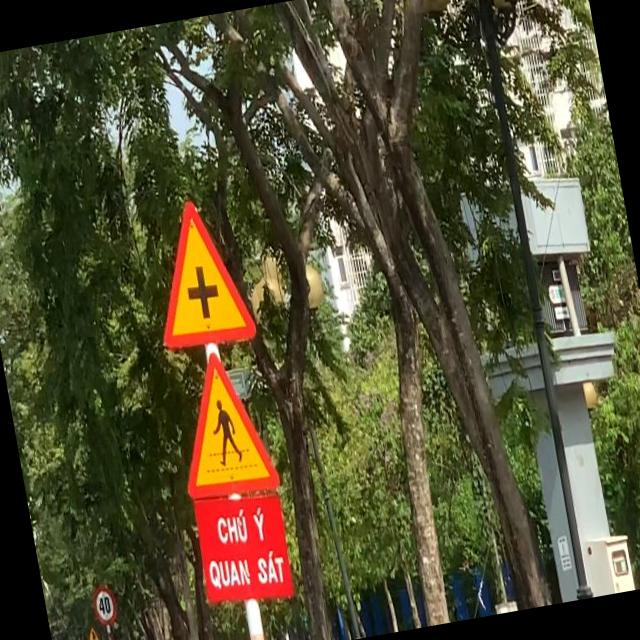P-127: (90, 581, 116, 628)
W-205a: (139, 192, 260, 358)
W-224: (165, 342, 282, 504)
